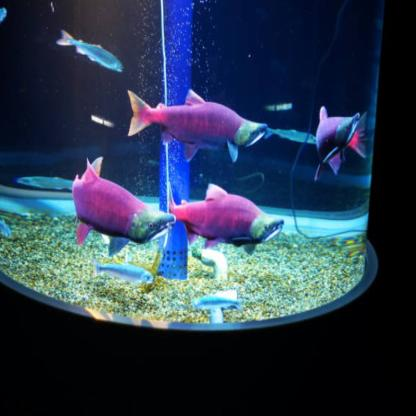sockeye: (126, 82, 264, 151), (75, 169, 174, 242), (164, 191, 286, 250), (313, 102, 366, 179)
